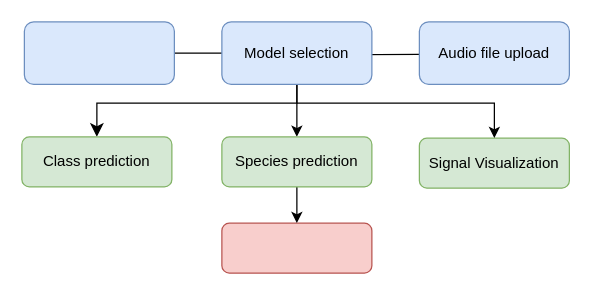
Some shapes in this 591 by 295 pixel diagram are drawn without their labels. Each missing label, with the centre of its shape:
"Bird species images" goes at [296,247].
"Time interval of interest" goes at [98,52].
